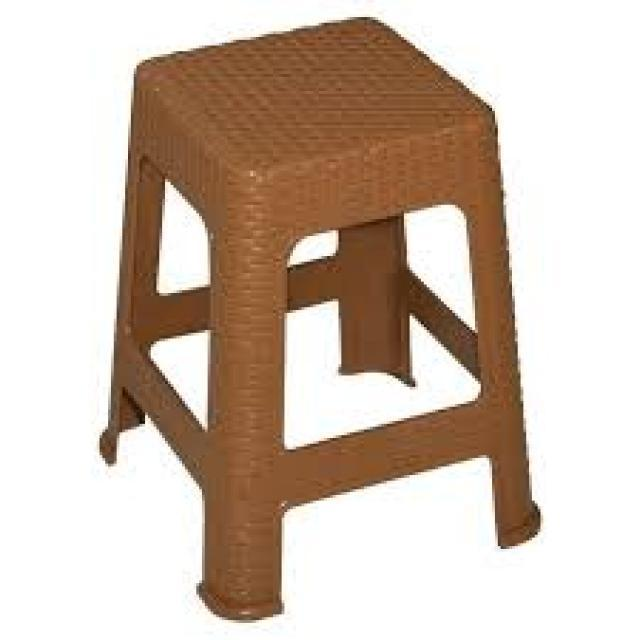chair: (89, 6, 544, 625)
